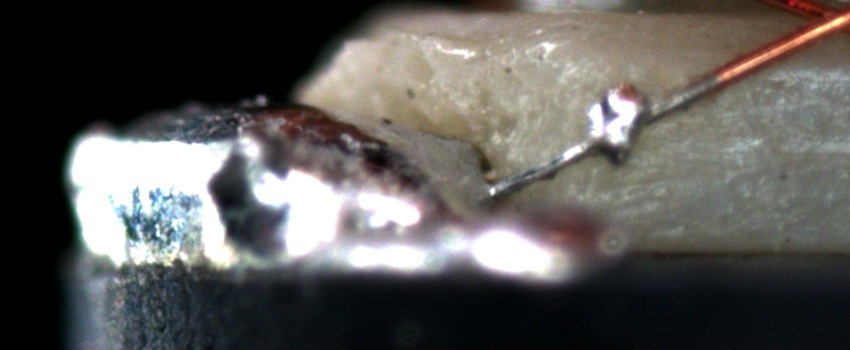CL: (780, 0, 848, 46)
DL: (762, 44, 849, 108), (766, 134, 849, 176)
TB: (578, 82, 656, 172)
TS: (489, 76, 718, 198)
TTCW: (483, 49, 767, 207)
